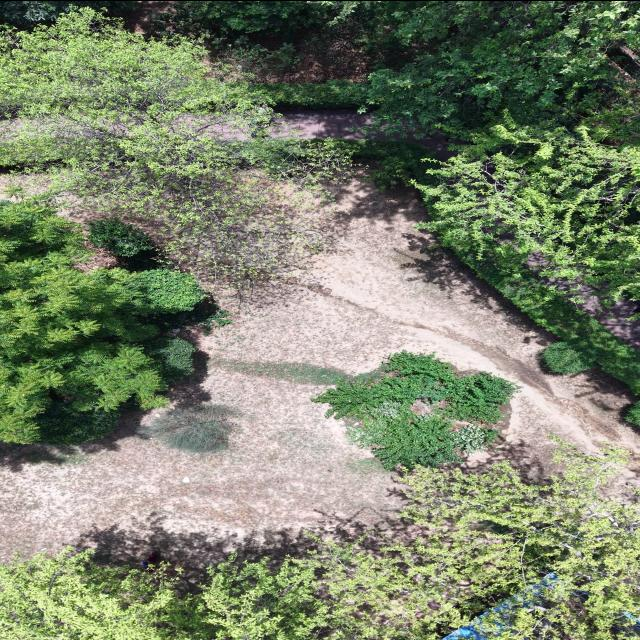DRY_AREA: (0, 182, 639, 574), (250, 182, 636, 477), (104, 1, 376, 82), (208, 22, 373, 82), (270, 109, 463, 159), (271, 109, 461, 159), (270, 109, 453, 159), (271, 109, 454, 159), (219, 23, 373, 82), (538, 275, 639, 348), (271, 109, 420, 140), (571, 283, 639, 348), (573, 285, 639, 348), (121, 1, 174, 32)
VEGETATION_TREE: (0, 1, 639, 443), (158, 1, 639, 392), (214, 1, 639, 391), (0, 447, 639, 639), (362, 1, 639, 388), (1, 8, 341, 285), (1, 8, 340, 285), (361, 1, 639, 303), (419, 124, 639, 391), (349, 448, 639, 639), (254, 1, 639, 139), (0, 201, 204, 443), (417, 116, 639, 305), (363, 1, 639, 139), (455, 242, 639, 392), (312, 351, 519, 468), (73, 1, 370, 81), (155, 1, 381, 81), (0, 550, 191, 639), (349, 404, 496, 468), (145, 272, 230, 330), (140, 403, 237, 452), (88, 216, 172, 269), (188, 1, 326, 32), (37, 401, 118, 444), (129, 268, 203, 314), (0, 1, 133, 25), (145, 296, 231, 329), (89, 218, 152, 256), (143, 337, 194, 380), (540, 341, 592, 373), (622, 402, 639, 424)
